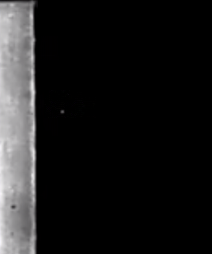Target: (62, 111, 64, 113)
